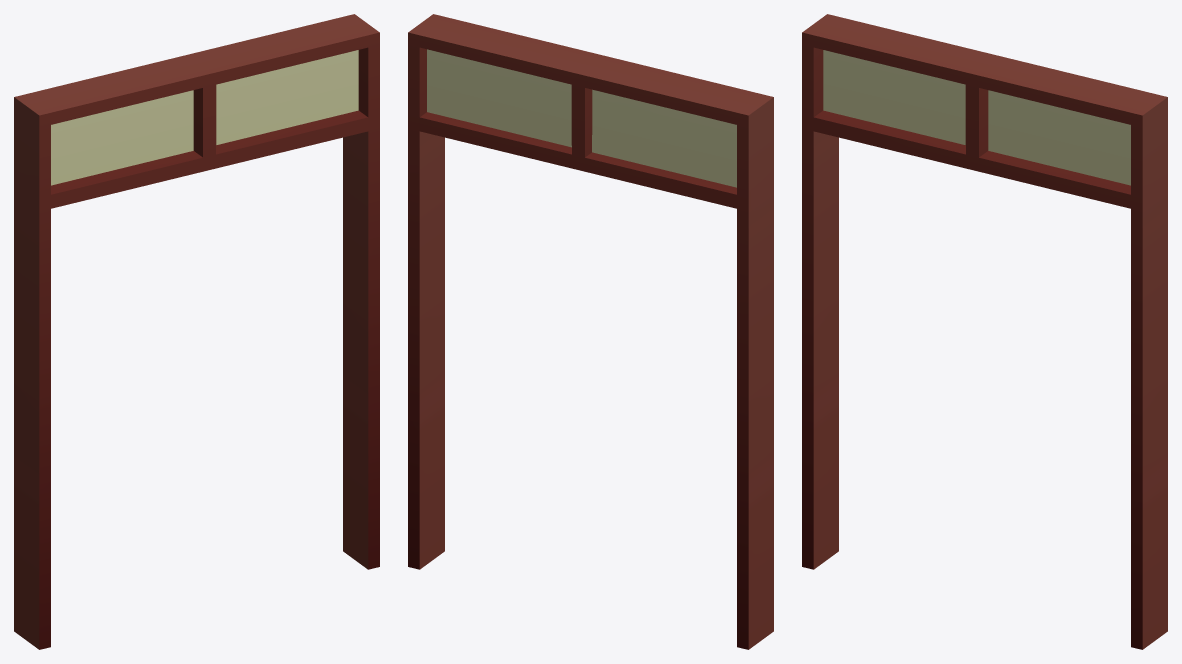
File: SM_Door_01.fbx
3 views of the same model, side by side, from view 1: azimuth 30°, elevation 25°; view 2: azimuth 150°, elevation 25°; view 3: azimuth 330°, elevation 25° (orthographic).
Visible parts, largest first — view 1: SM_Door_01; view 2: SM_Door_01; view 3: SM_Door_01.
Part boxes in pixels (<box>): SM_Door_01: <box>14,14,379,649</box>; SM_Door_01: <box>408,14,773,649</box>; SM_Door_01: <box>802,14,1167,649</box>.
Size of the model in its own units: 1.5 by 2.25 by 0.1929.
